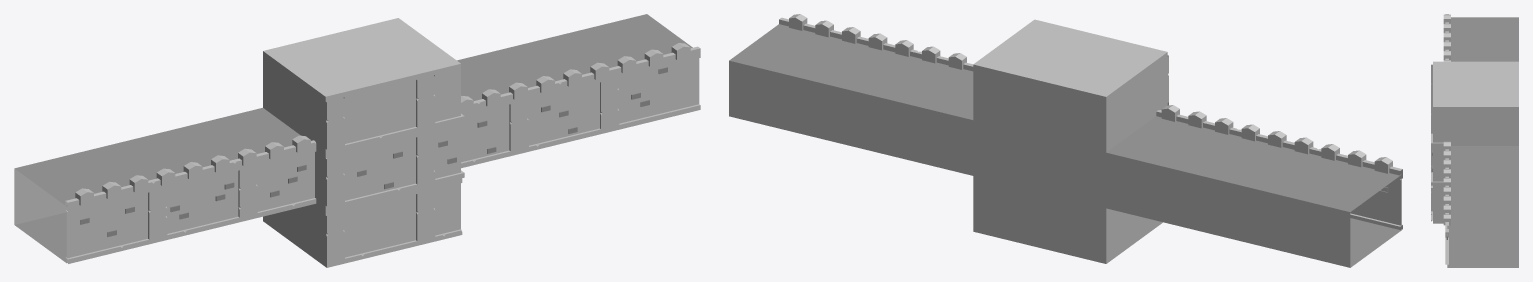
File: GreatWallFull.fbx
The picture shows the model from 3 angles, left to right: view 1: azimuth 30°, elevation 25°; view 2: azimuth 150°, elevation 25°; view 3: azimuth 270°, elevation 25°; orthographic projection. The views are drawn at different scales.
Visible parts, largest first — view 1: GreatWall, GreatWallTower; view 2: GreatWall, GreatWallTower; view 3: GreatWall, GreatWallTower.
Part boxes in pixels (bbox=[...]): GreatWall: bbox=[14, 14, 700, 263]; GreatWallTower: bbox=[263, 18, 464, 267]; GreatWall: bbox=[729, 14, 1402, 267]; GreatWallTower: bbox=[973, 19, 1168, 263]; GreatWall: bbox=[1443, 14, 1518, 267]; GreatWallTower: bbox=[1431, 61, 1518, 223].
Bounding box in the file's own units: 7000 × 1800 × 1225.
